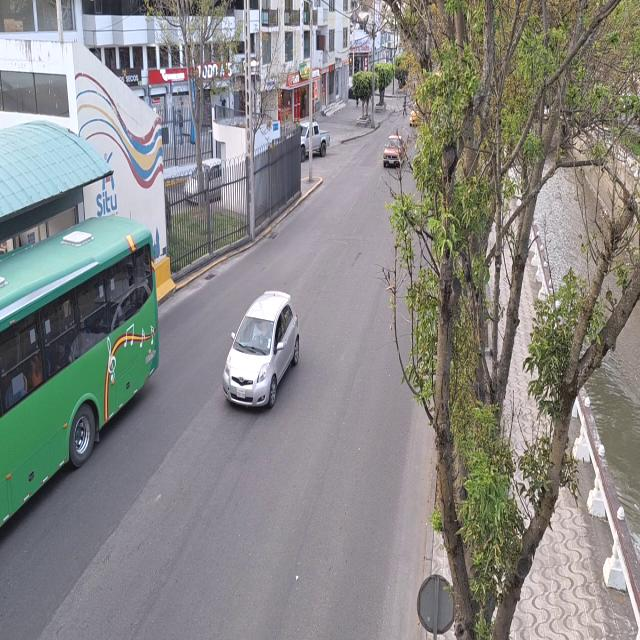BUS: (0, 219, 147, 577)
CMT: (301, 119, 330, 164), (384, 138, 403, 169)
SED: (221, 287, 301, 410)
